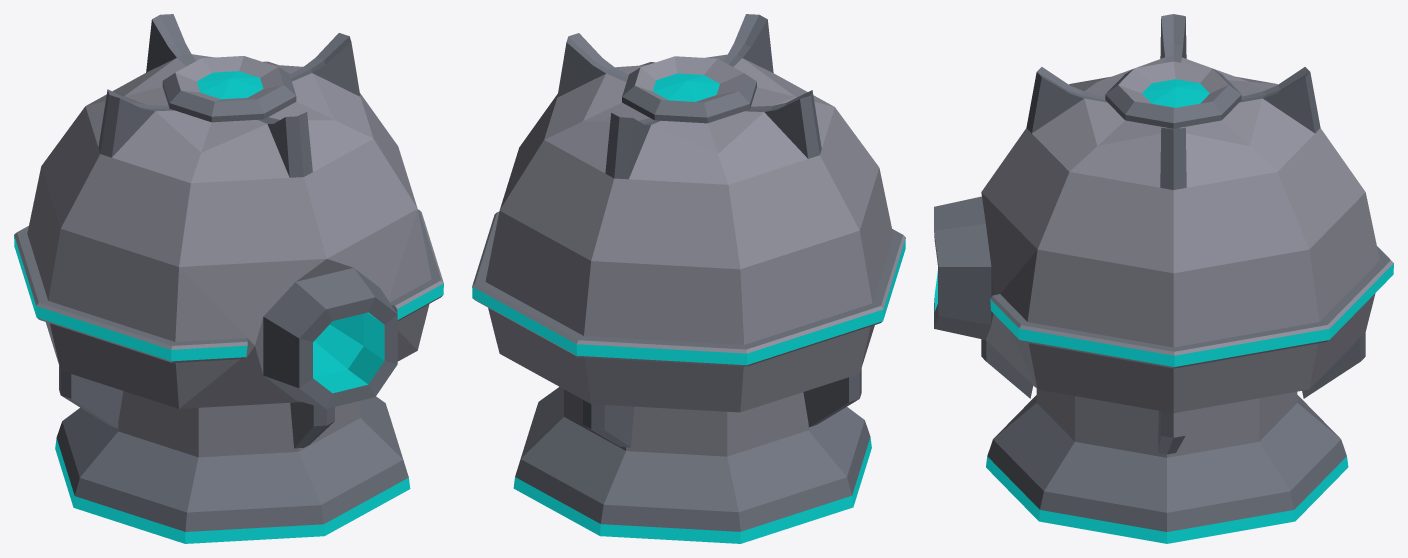
File: silver_sphinx.gltf
3 renders of one model, left to right at view 1: azimuth 30°, elevation 25°; view 2: azimuth 150°, elevation 25°; view 3: azimuth 270°, elevation 25°, orthographic. The views are drawn at different scales.
Parts seen in each view (by area): view 1: silver_sphinx; view 2: silver_sphinx; view 3: silver_sphinx.
Part boxes in pixels (left/top/right/bottom): silver_sphinx: left=14, top=14, right=443, bottom=543; silver_sphinx: left=472, top=14, right=905, bottom=543; silver_sphinx: left=934, top=14, right=1393, bottom=543.
Size of what is drawn, in the model's own units: 1.81 by 1.8 by 1.9.
2 materials, 2 textured.
